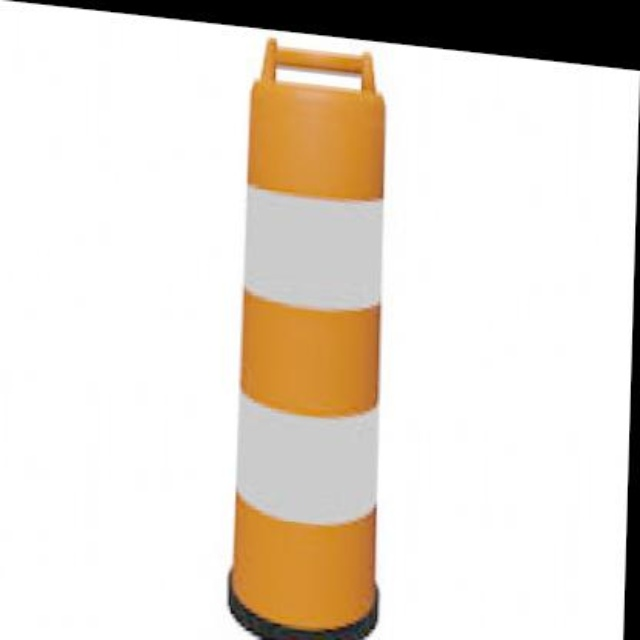obstacle: (223, 40, 394, 637)
